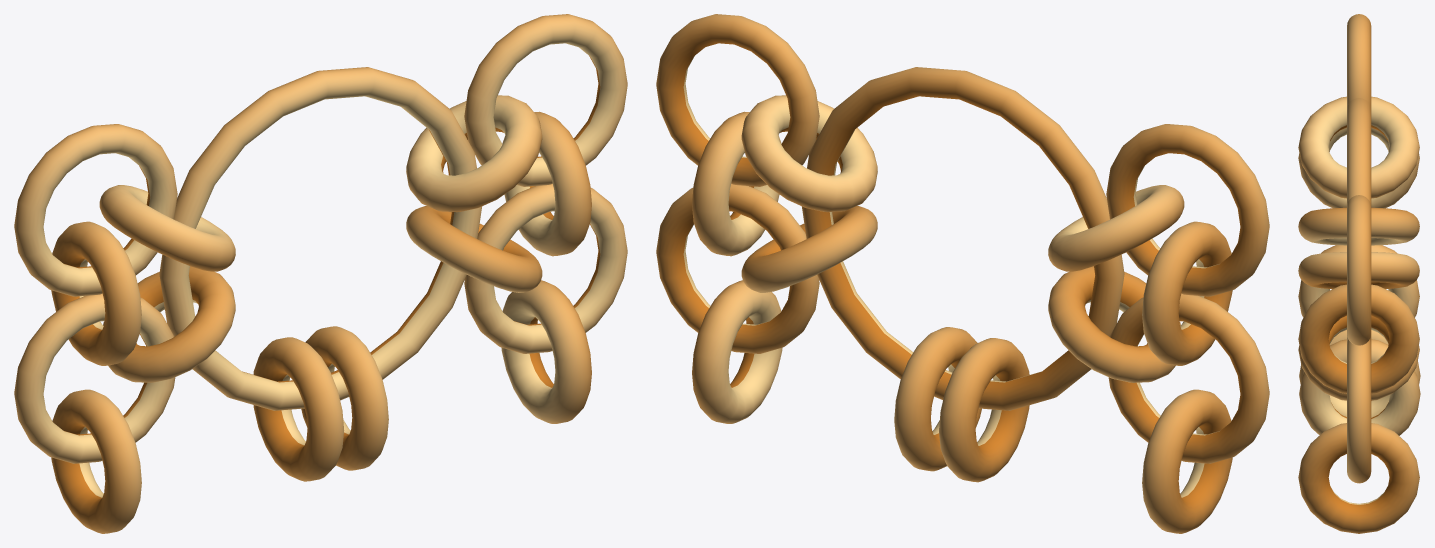
File: hashigo_n_b.fbx
3 views of the same model, side by side, from view 1: azimuth 30°, elevation 25°; view 2: azimuth 150°, elevation 25°; view 3: azimuth 270°, elevation 25° (orthographic). The views are drawn at different scales.
Parts seen in each view (by area): view 1: m1; view 2: m1; view 3: m1.
Part boxes in pixels (<box>): m1: <box>14,14,627,533</box>; m1: <box>656,14,1269,533</box>; m1: <box>1298,14,1420,533</box>.
Bounding box in the file's own units: 19.09 × 12.02 × 4.02.
